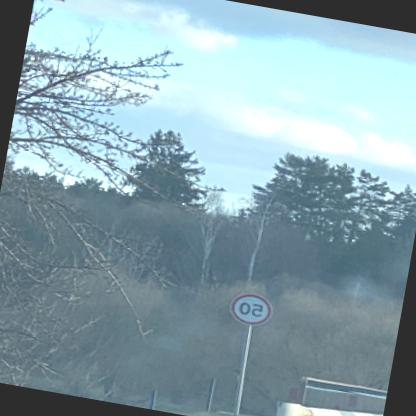speedlimit: (230, 290, 275, 326)
